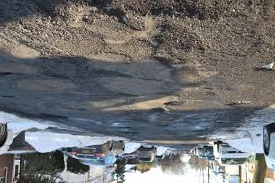pothole: (91, 0, 229, 18), (154, 18, 207, 52), (101, 94, 178, 117), (93, 75, 168, 94), (104, 60, 163, 81), (164, 64, 222, 83), (18, 77, 74, 92), (153, 52, 187, 67), (10, 43, 38, 60), (122, 18, 147, 31), (254, 59, 273, 74), (225, 97, 256, 106)
